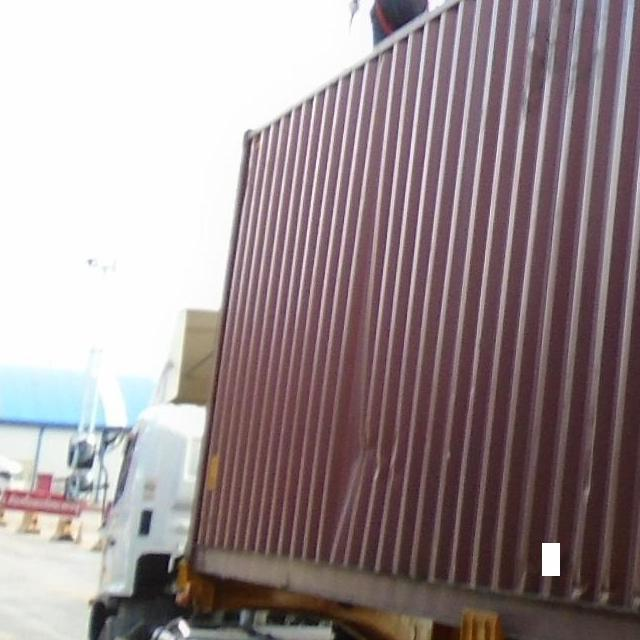dent: (318, 368, 405, 528)
